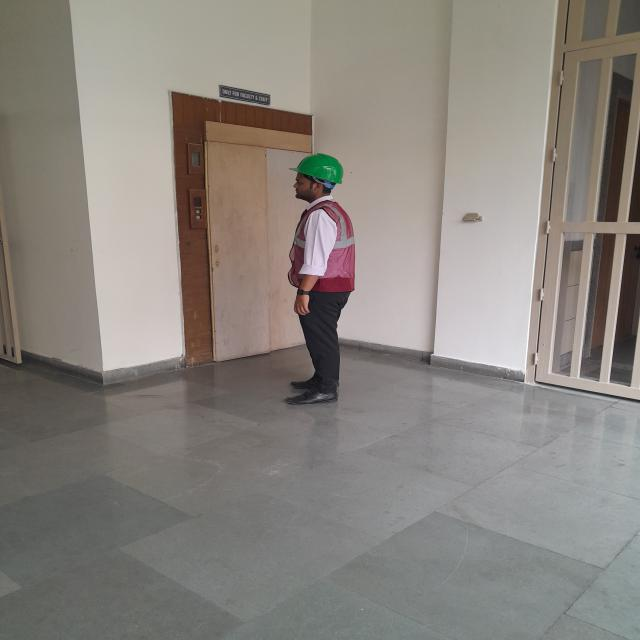safe: (289, 154, 355, 402)
